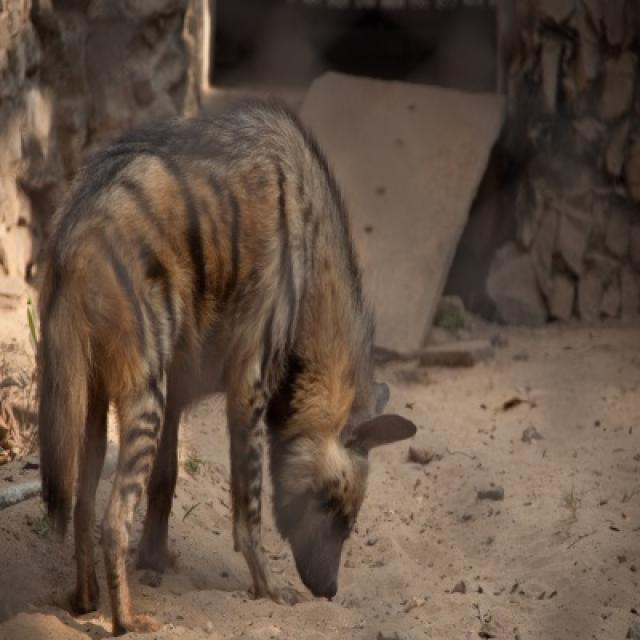hyena: (27, 104, 414, 635)
